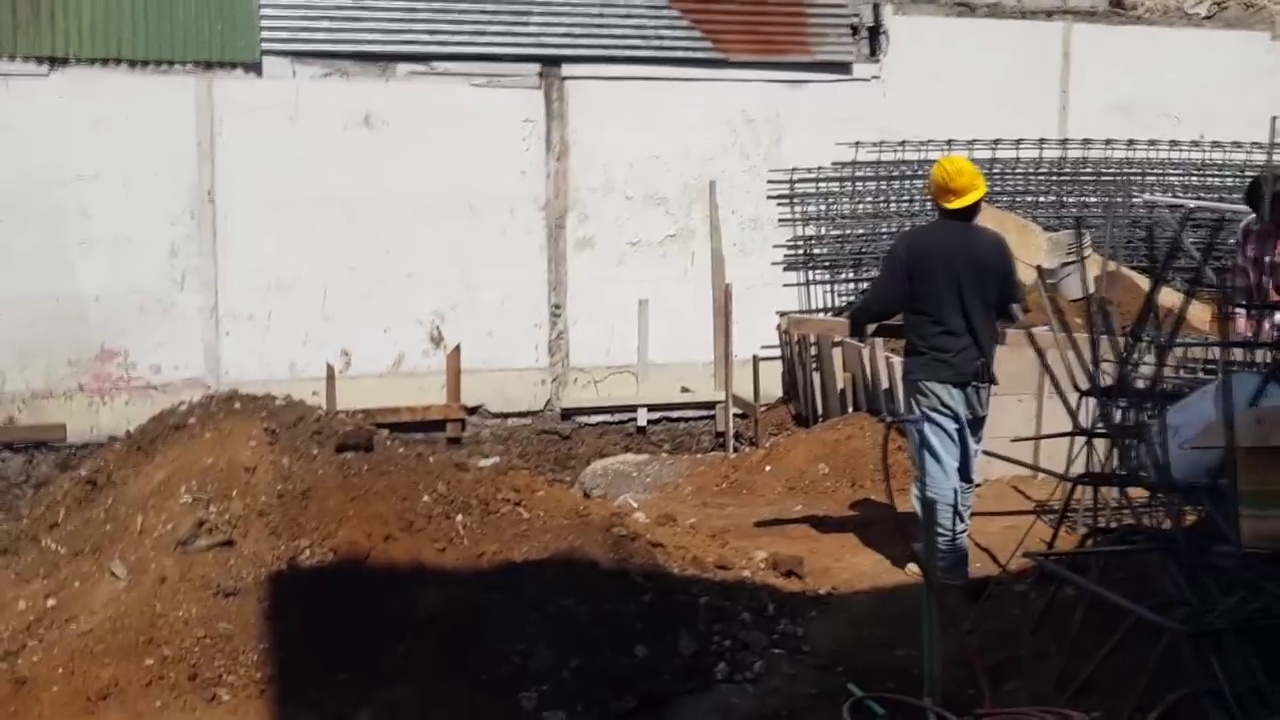helmet: (928, 153, 986, 210)
helmet-off: (1243, 172, 1280, 225)
helmet-on: (927, 152, 989, 225)
person: (843, 150, 1027, 593), (1231, 173, 1280, 365)
